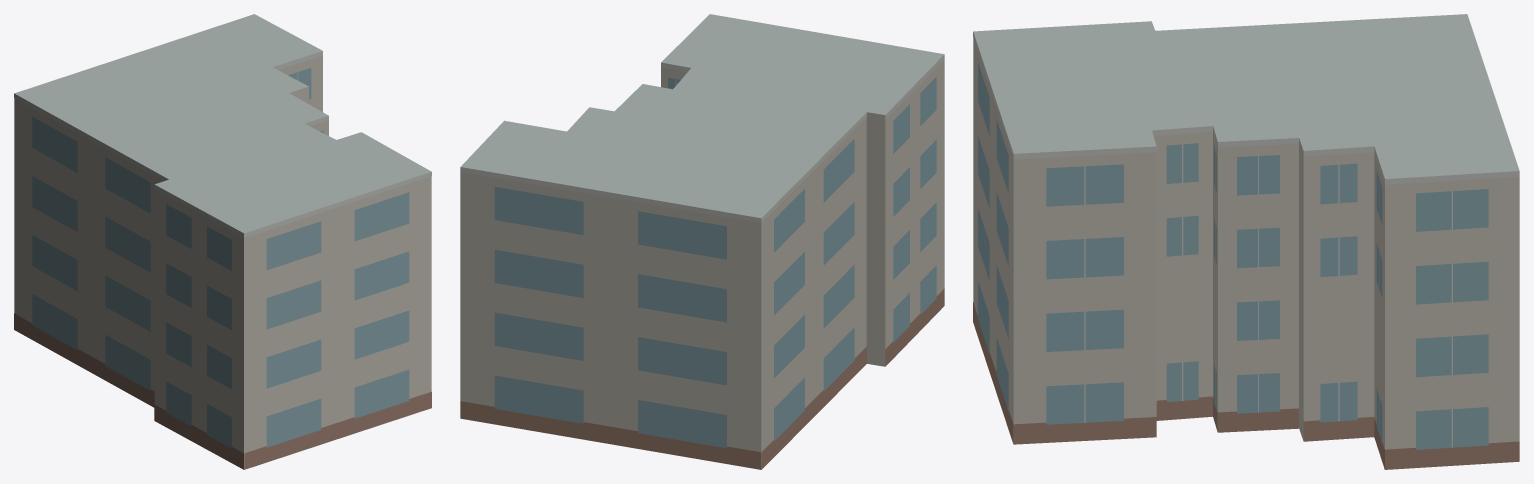
Rendered from survey-upis-32471596.glb.
3 views of the same model, side by side, from view 1: azimuth 30°, elevation 25°; view 2: azimuth 150°, elevation 25°; view 3: azimuth 270°, elevation 25° (orthographic). The views are drawn at different scales.
Parts seen in each view (by area): view 1: survey-upis-32471596.tmp; view 2: survey-upis-32471596.tmp; view 3: survey-upis-32471596.tmp.
Boxes of the visible parts, x1,y1,x2,y2 form: survey-upis-32471596.tmp: [14, 14, 431, 469]; survey-upis-32471596.tmp: [460, 14, 944, 469]; survey-upis-32471596.tmp: [973, 14, 1519, 469].
Bounding box in the file's own units: 15.48 × 12.7 × 21.65.
